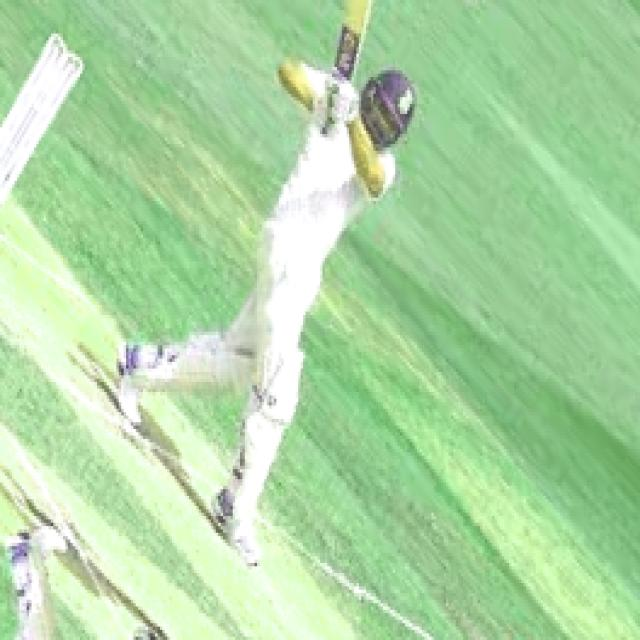toe: (349, 0, 373, 13)
